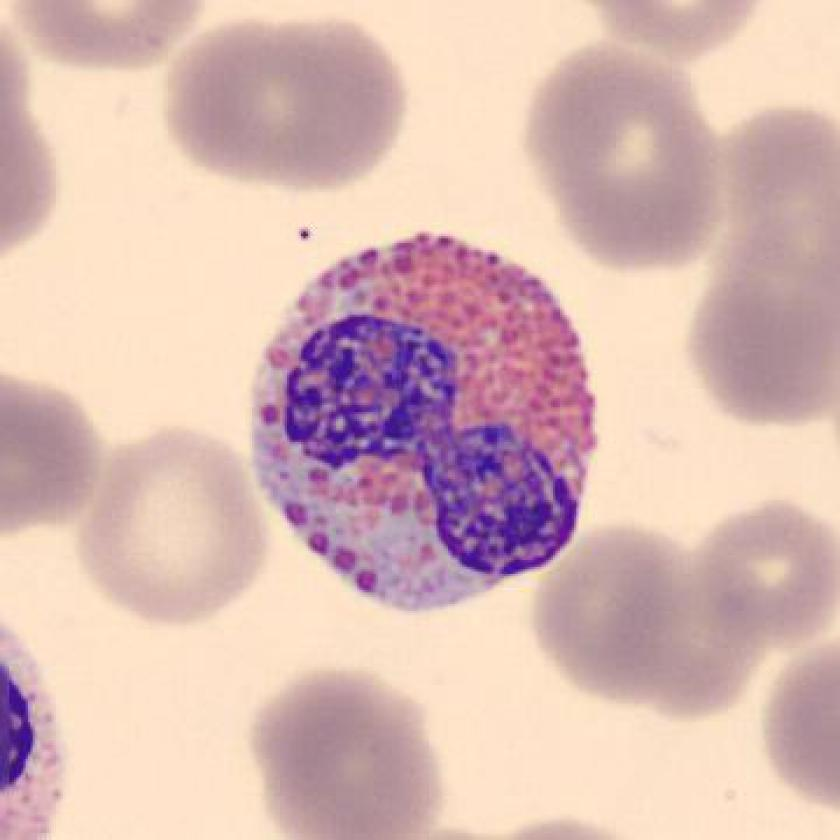eosinophil: (237, 219, 610, 624)
